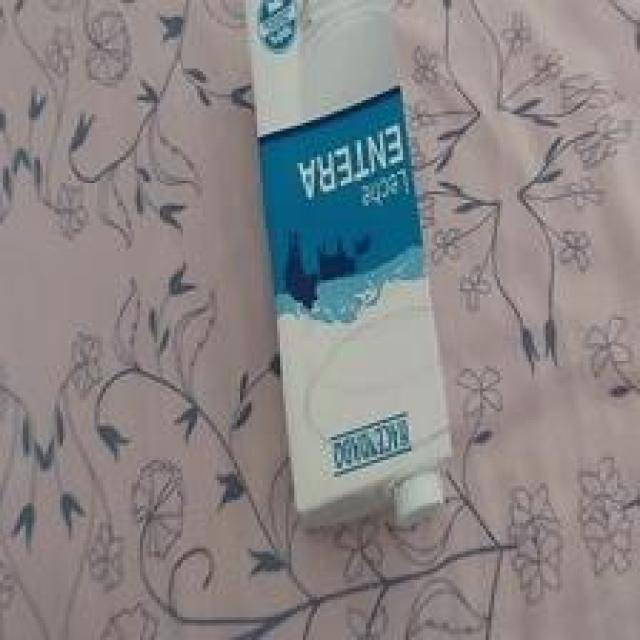PaperCardboard: (243, 0, 463, 543)
